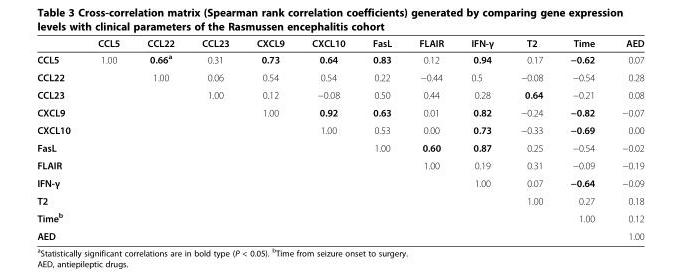table: (36, 36, 643, 241)
table column: (297, 36, 358, 241), (132, 36, 187, 241), (187, 36, 242, 241), (242, 36, 297, 241), (404, 36, 456, 241), (556, 36, 607, 241), (456, 36, 506, 241), (506, 36, 556, 241), (83, 36, 132, 241), (36, 36, 83, 241), (358, 36, 404, 241), (607, 36, 643, 241)
table column header: (36, 36, 643, 50)
table row: (36, 50, 643, 68), (36, 85, 643, 103), (36, 120, 643, 138), (36, 138, 643, 156), (36, 173, 643, 191), (36, 208, 643, 226), (36, 68, 643, 85), (36, 103, 643, 120), (36, 156, 643, 173), (36, 191, 643, 208), (36, 226, 643, 241), (36, 36, 643, 50)
